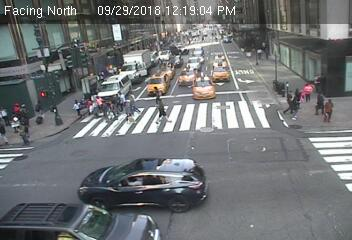car: (77, 156, 210, 212), (3, 202, 158, 240), (117, 52, 152, 85), (92, 74, 134, 99), (193, 72, 218, 102), (147, 73, 174, 94), (177, 67, 199, 87), (211, 63, 230, 81), (184, 55, 202, 70), (212, 52, 227, 67), (191, 45, 204, 58), (220, 34, 232, 44)
